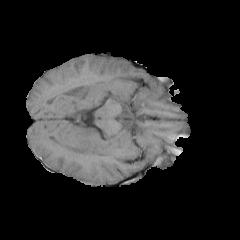glioma: (64, 128, 100, 160)
